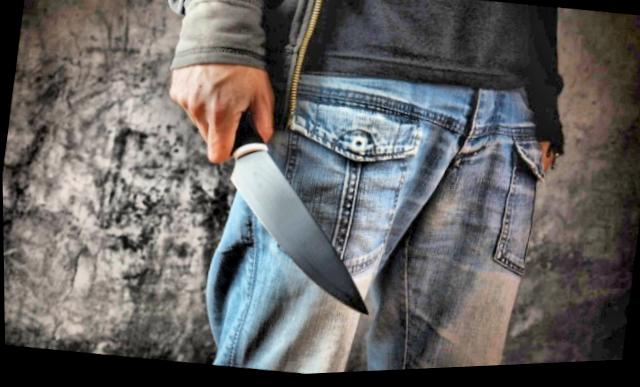knife: (152, 78, 404, 333)
